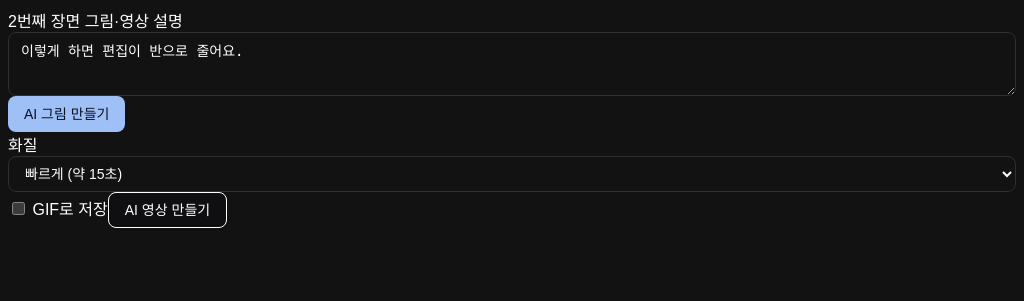
it: 장면 그림 만들기 › 그림 만드는 곳이 꺼져 있으면 켜라고 말한다
The width and height of the screenshot is (1024, 301).
What coordinates should you click on to do the following:
click the button "AI 그림 만들기"
I would click on:
 (67, 114)
Its box is [8, 96, 125, 132].
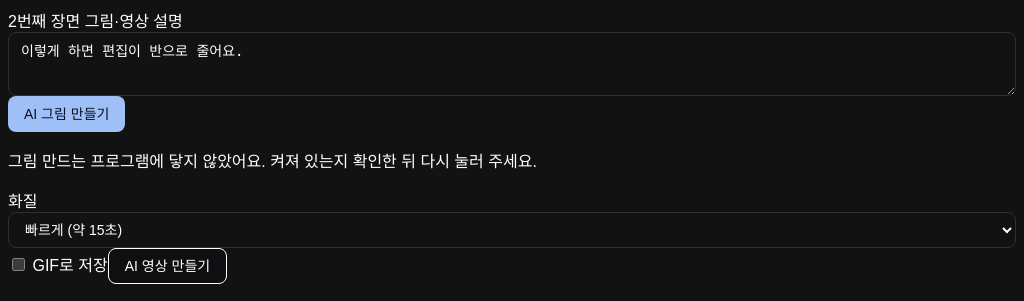
Now the text "그림 만드는 프로그램에 닿지 않았어요. 켜져 있는지 확인한 뒤 다시 눌러 주세요." is shown, box [8, 153, 537, 170]
